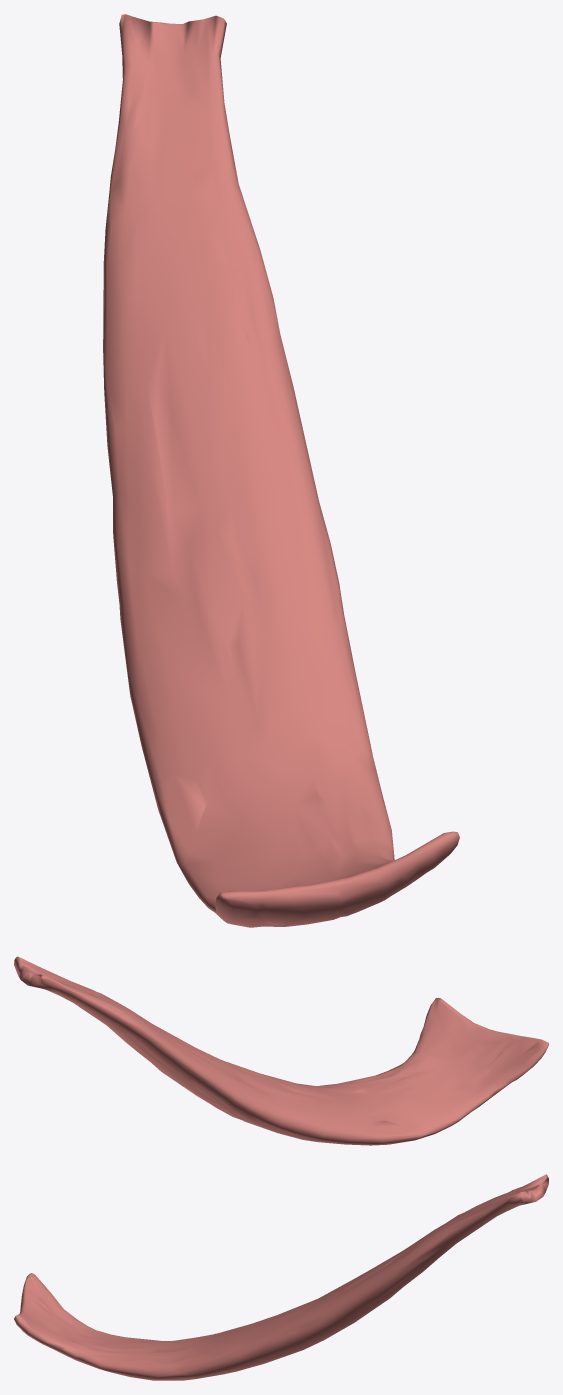
The picture shows the model from 3 angles, top to bottom: view 1: azimuth 30°, elevation 25°; view 2: azimuth 150°, elevation 25°; view 3: azimuth 270°, elevation 25°; orthographic projection. The views are drawn at different scales.
Parts seen in each view (by area): view 1: ZA_d8e345dda7511af6; view 2: ZA_d8e345dda7511af6; view 3: ZA_d8e345dda7511af6.
Part boxes in pixels (x1,y1,x2,y2): ZA_d8e345dda7511af6: [103, 14, 459, 927]; ZA_d8e345dda7511af6: [14, 956, 548, 1145]; ZA_d8e345dda7511af6: [14, 1174, 548, 1380].
Bounding box in the file's own units: 0.0222 × 0.0218 × 0.0414.
